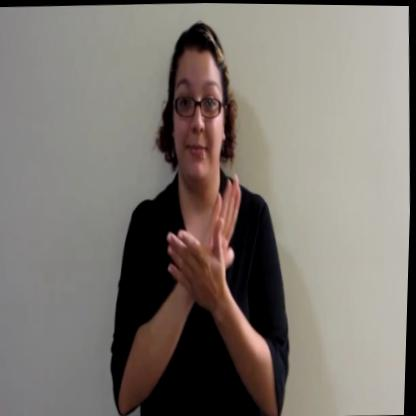NiceToMeetYou: (161, 168, 260, 336)
